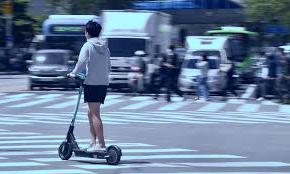nonhelmet: (56, 19, 124, 165)
